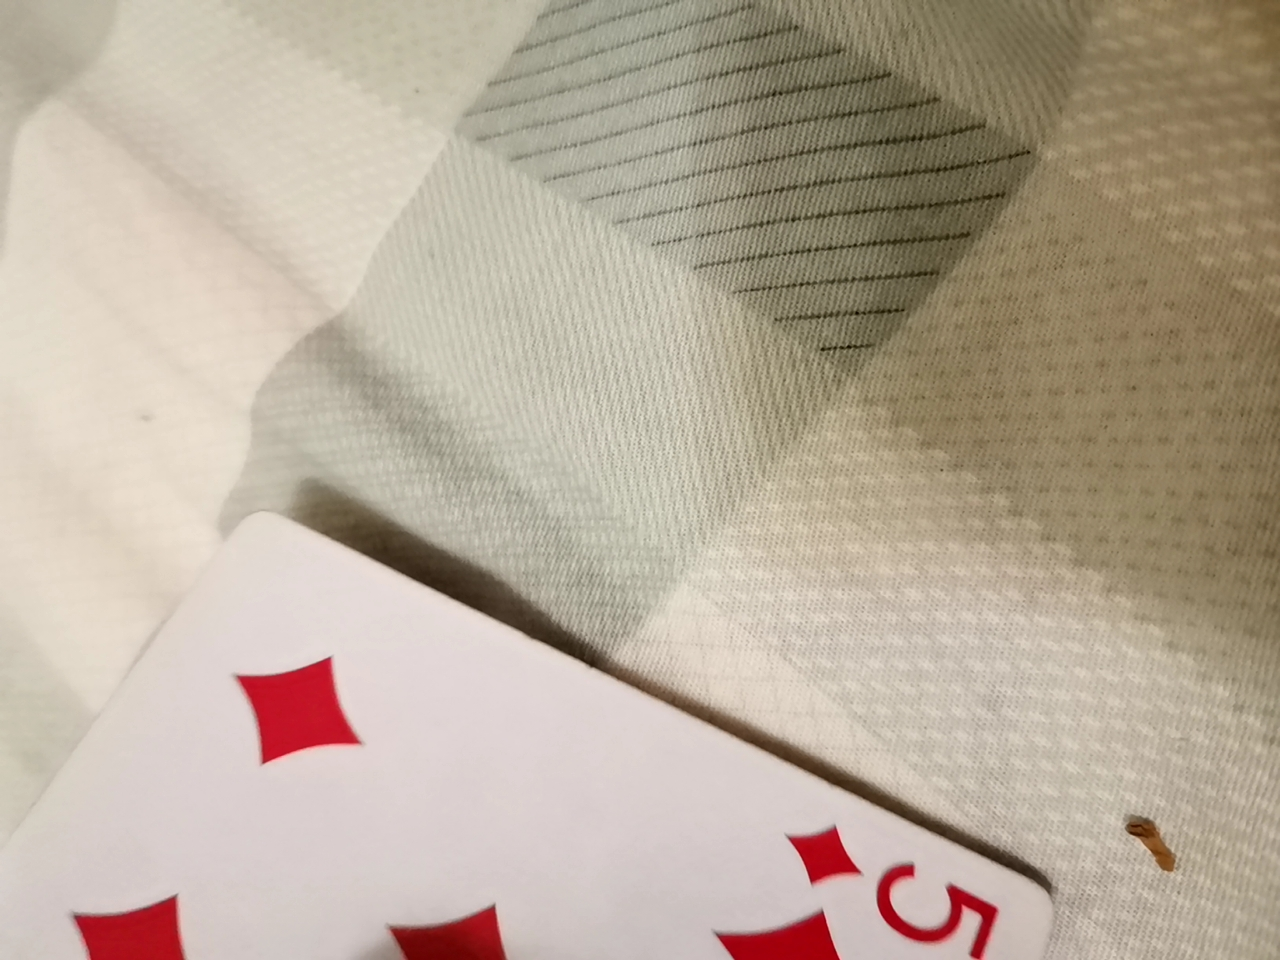fk 5: (7, 476, 1072, 954)
